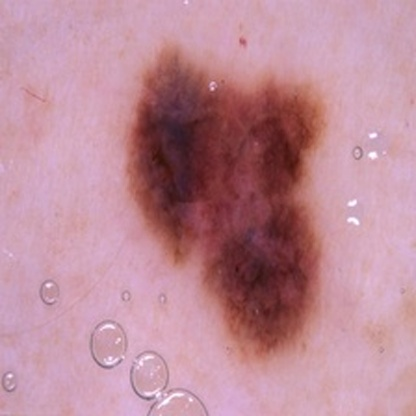malignant: (151, 86, 323, 337)
